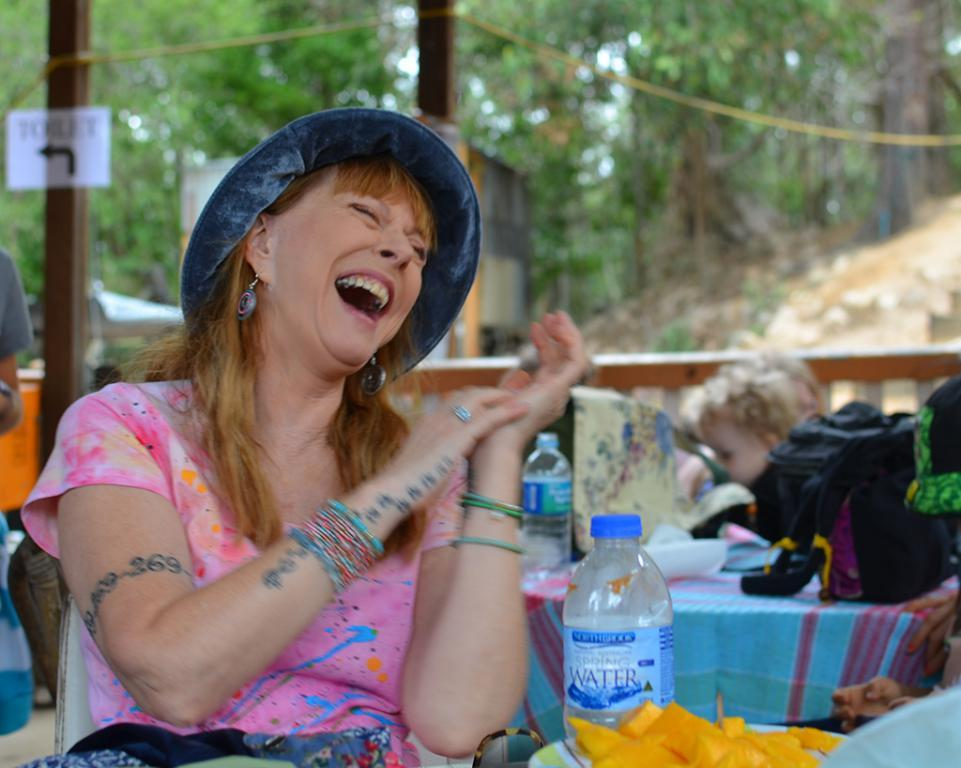Hat: (181, 108, 479, 390)
